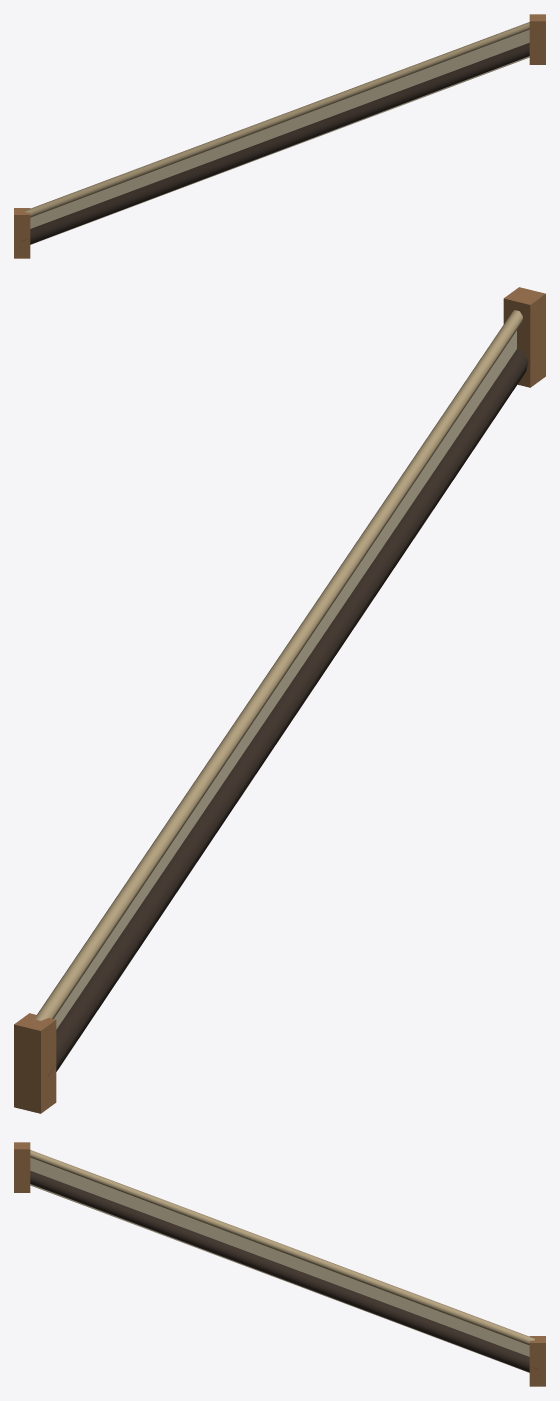
File: Roof_GableEdge_22p5_Right.glb
3 renders of one model, top to bottom at view 1: azimuth 90°, elevation 25°; view 2: azimuth 150°, elevation 25°; view 3: azimuth 270°, elevation 25°, orthographic. The views are drawn at different scales.
Parts seen in each view (by area): view 1: _MeshInstance3D_3601, _MeshInstance3D_3600, _MeshInstance3D_3602, _MeshInstance3D_3604, _MeshInstance3D_3603; view 2: _MeshInstance3D_3601, _MeshInstance3D_3602, _MeshInstance3D_3600, _MeshInstance3D_3603, _MeshInstance3D_3604; view 3: _MeshInstance3D_3601, _MeshInstance3D_3600, _MeshInstance3D_3602, _MeshInstance3D_3604, _MeshInstance3D_3603.
Part boxes in pixels (<box>): _MeshInstance3D_3601: <box>22,43,529,244</box>; _MeshInstance3D_3600: <box>30,30,529,244</box>; _MeshInstance3D_3602: <box>25,22,529,217</box>; _MeshInstance3D_3604: <box>529,14,545,64</box>; _MeshInstance3D_3603: <box>14,208,30,258</box>; _MeshInstance3D_3601: <box>48,349,528,1075</box>; _MeshInstance3D_3602: <box>35,310,522,1020</box>; _MeshInstance3D_3600: <box>54,330,516,1029</box>; _MeshInstance3D_3603: <box>14,1013,56,1113</box>; _MeshInstance3D_3604: <box>503,287,545,387</box>; _MeshInstance3D_3601: <box>30,1171,537,1372</box>; _MeshInstance3D_3600: <box>30,1158,529,1372</box>; _MeshInstance3D_3602: <box>30,1150,534,1345</box>; _MeshInstance3D_3604: <box>14,1142,30,1192</box>; _MeshInstance3D_3603: <box>529,1336,545,1386</box>.
Bounding box in the file's own units: 0.0955 × 1.52 × 3.09.
